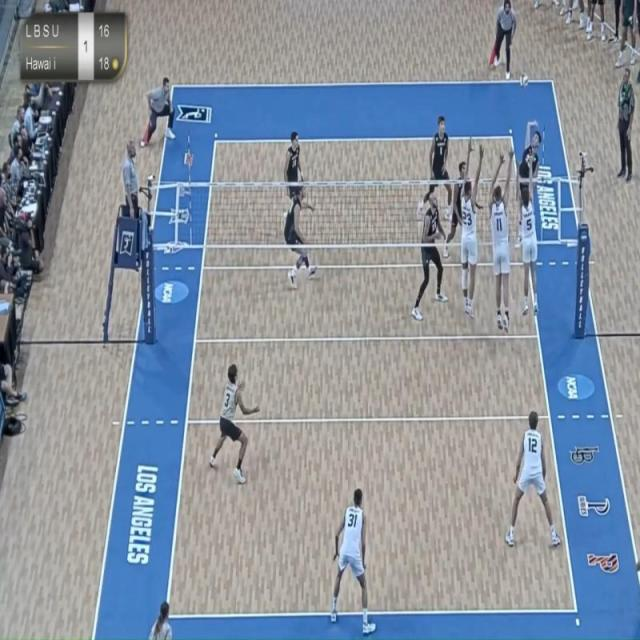volleyball: (518, 68, 530, 92)
